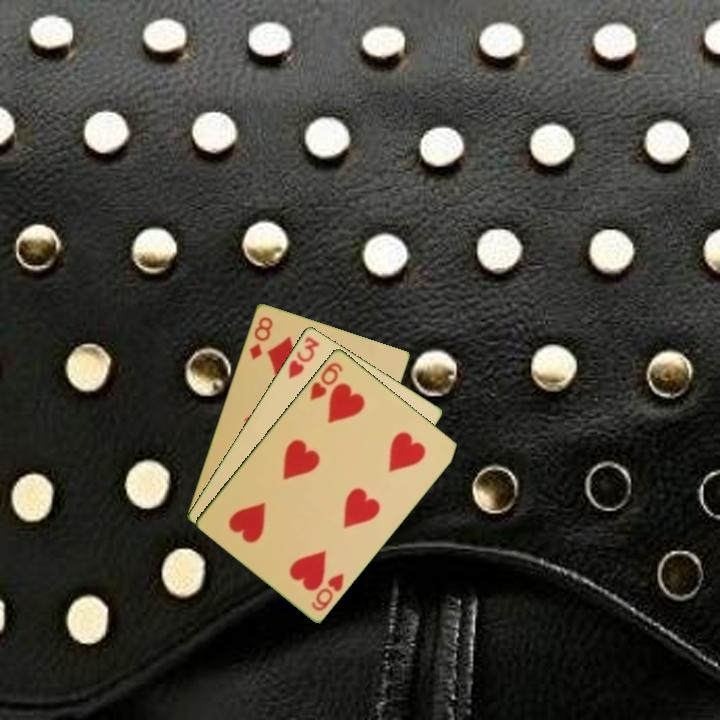3h: (284, 332, 322, 381)
6h: (306, 358, 346, 403), (308, 569, 347, 614)
8d: (246, 313, 276, 362)
